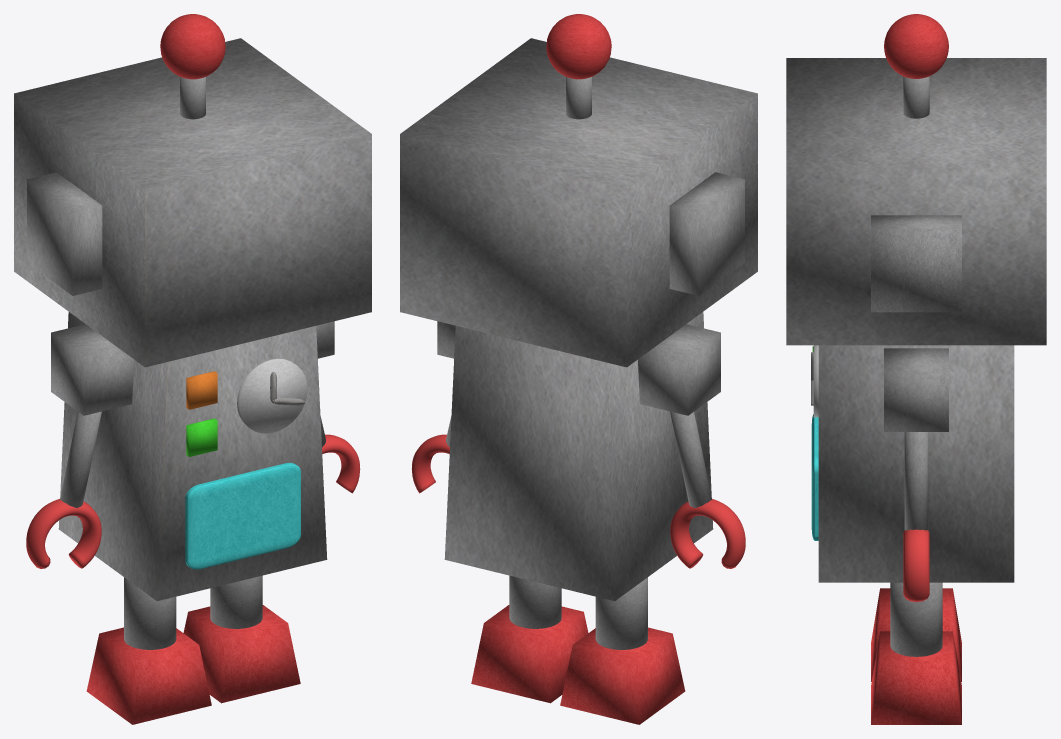
The model's file is FeltRobot.fbx.
The picture shows the model from 3 angles, left to right: view 1: azimuth 30°, elevation 25°; view 2: azimuth 150°, elevation 25°; view 3: azimuth 270°, elevation 25°; orthographic projection.
Visible parts, largest first — view 1: head, body, leg_right, arm_right, leg_left, arm_left; view 2: head, body, leg_right, arm_right, leg_left, arm_left; view 3: head, body, leg_left, arm_left, leg_right.
Part boxes in pixels (<box>): head: <box>14,14,371,367</box>; body: <box>58,312,327,601</box>; leg_right: <box>86,577,211,724</box>; arm_right: <box>26,324,133,568</box>; leg_left: <box>183,575,300,703</box>; arm_left: <box>316,321,360,493</box>; head: <box>400,14,757,367</box>; body: <box>444,312,713,601</box>; leg_right: <box>560,577,685,724</box>; arm_right: <box>638,324,745,568</box>; leg_left: <box>471,575,588,703</box>; arm_left: <box>411,321,455,493</box>; head: <box>786,14,1046,345</box>; body: <box>811,345,1014,582</box>; leg_left: <box>871,582,961,724</box>; arm_left: <box>884,348,948,602</box>; leg_right: <box>871,588,961,681</box>.
Bounding box in the file's own units: 5.81 × 11.3 × 4.
